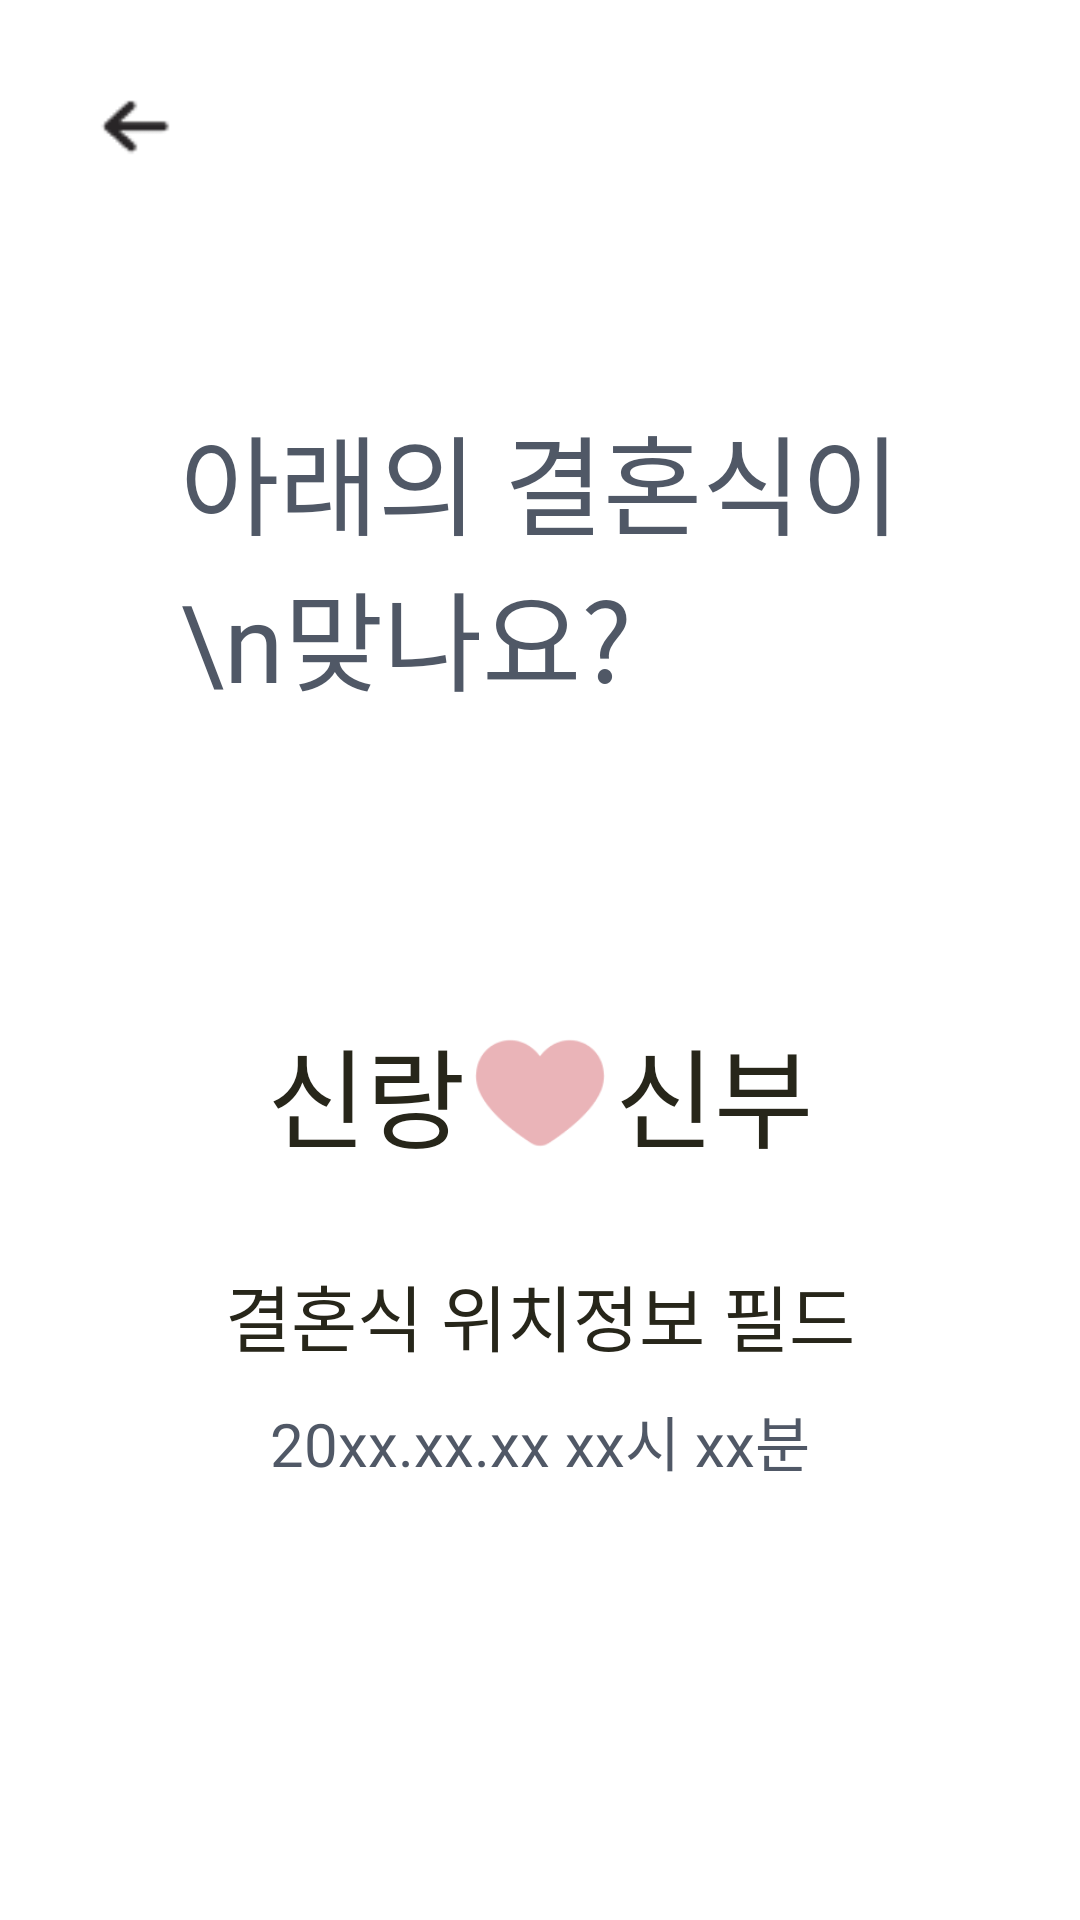

Locate icon controls on the screen. Image size 1080px x 1920px, boxes as (x1, y1, x2, y2).
back arrow: (103, 100, 169, 153)
heart source: (476, 1040, 604, 1146)
